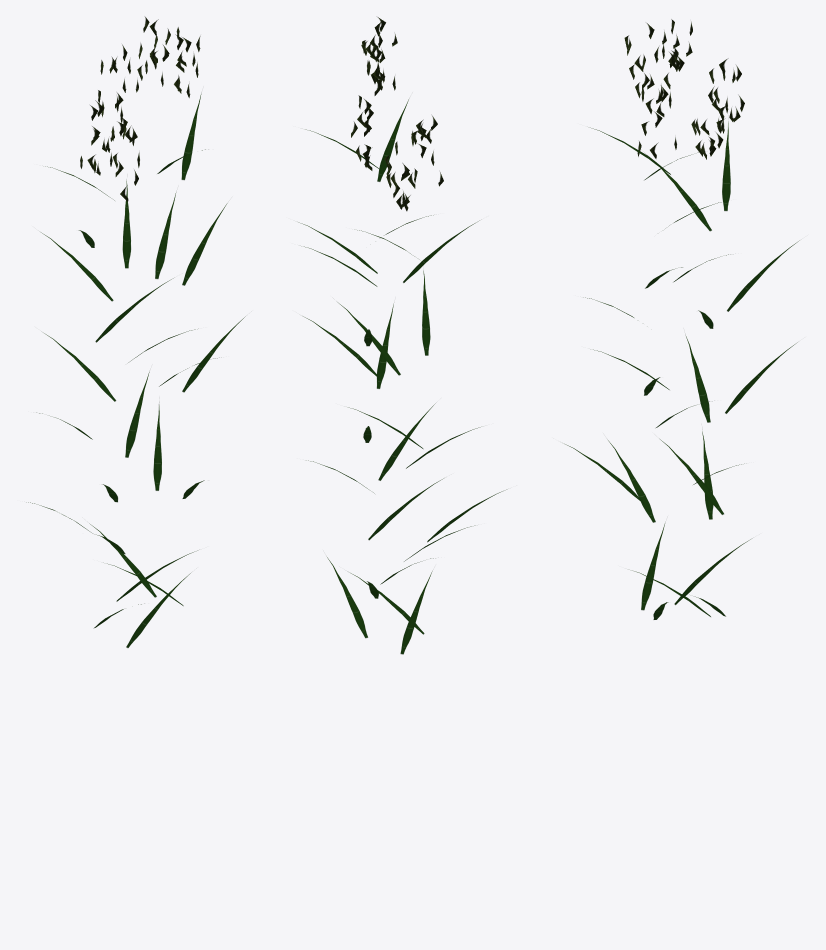
File: Wetland_Phragmites.glb
The picture shows the model from 3 angles, left to right: view 1: azimuth 30°, elevation 25°; view 2: azimuth 150°, elevation 25°; view 3: azimuth 270°, elevation 25°; orthographic projection. The views are drawn at different scales.
Parts seen in each view (by area): view 1: Wetland_Phragmites; view 2: Wetland_Phragmites; view 3: Wetland_Phragmites.
Part boxes in pixels (box(x1,y1,x2,y2)): Wetland_Phragmites: box(26, 17, 245, 647); Wetland_Phragmites: box(298, 17, 506, 654); Wetland_Phragmites: box(565, 19, 799, 619).
Size of the model in its own units: 0.9506 by 3.7 by 0.9615.
1 material, 1 textured.
